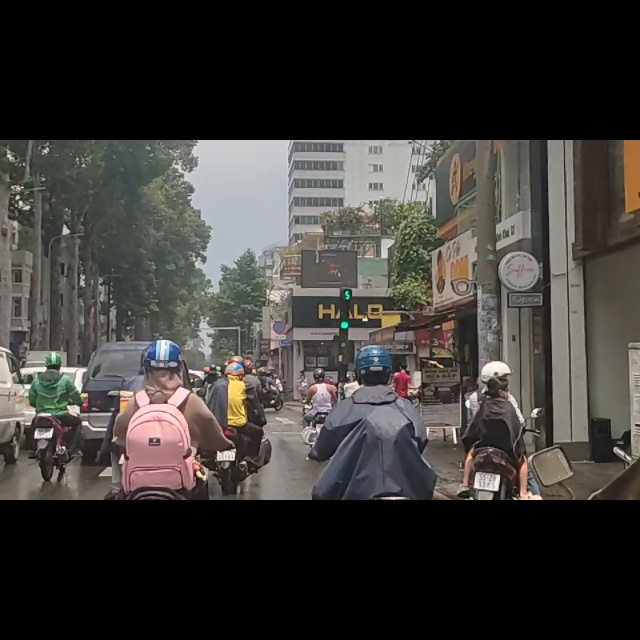bien_cam: (272, 319, 287, 345)
